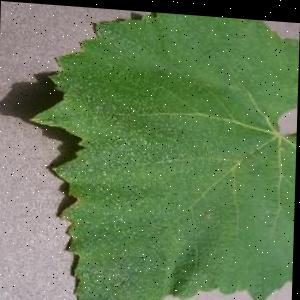Folha: (24, 2, 300, 300)
